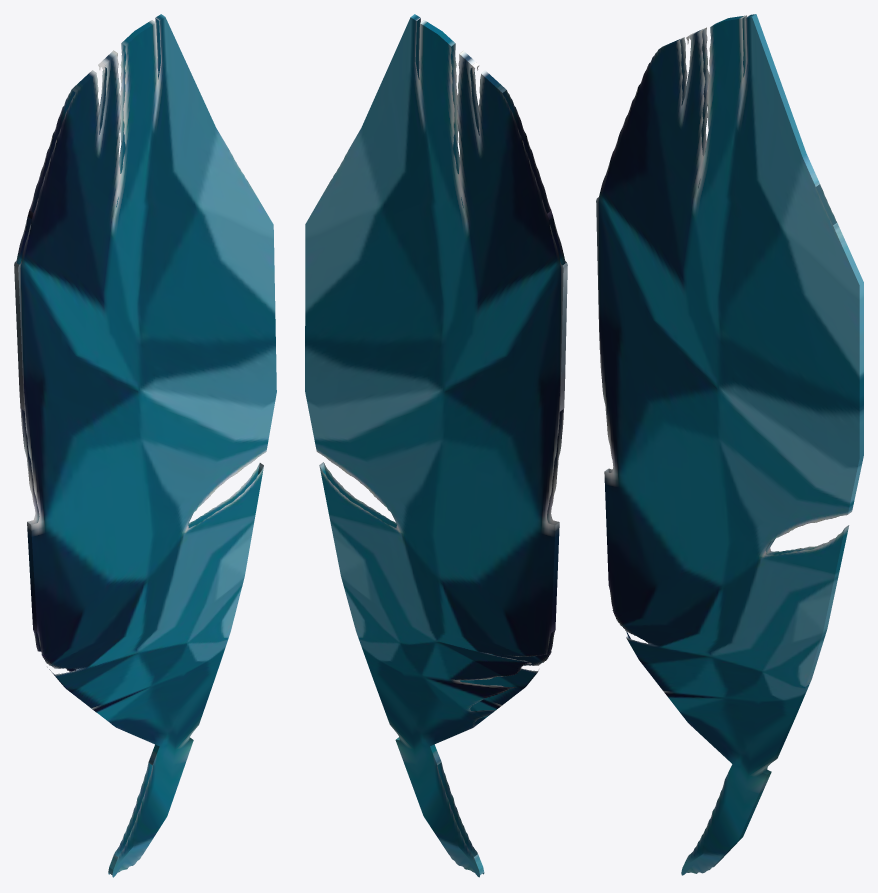
The model's file is feather.fbx.
3 views of the same model, side by side, from view 1: azimuth 30°, elevation 25°; view 2: azimuth 150°, elevation 25°; view 3: azimuth 330°, elevation 25° (orthographic). The views are drawn at different scales.
Visible parts, largest first — view 1: Plane001; view 2: Plane001; view 3: Plane001.
Part boxes in pixels (x1,y1,x2,y2): Plane001: [14, 14, 276, 877]; Plane001: [305, 14, 567, 877]; Plane001: [596, 14, 863, 875].
Size of the model in its own units: 11.6 by 36.35 by 0.9402.
